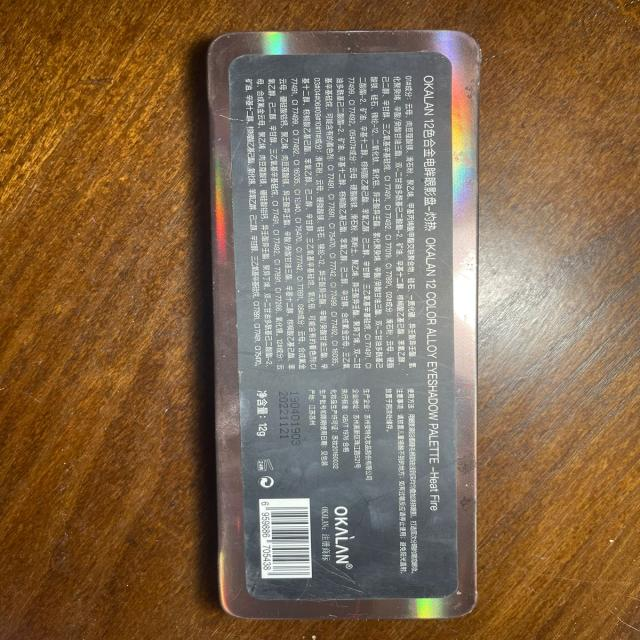makeup: (175, 18, 502, 626)
